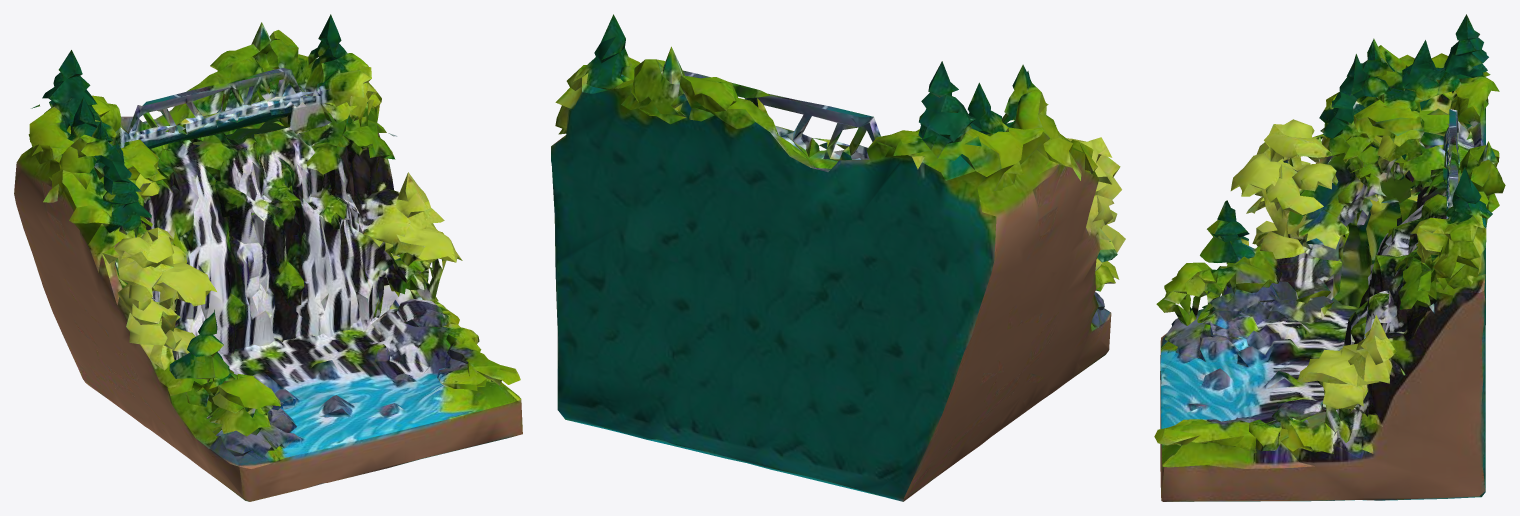
The model's file is shirahige-falls.glb.
3 views of the same model, side by side, from view 1: azimuth 30°, elevation 25°; view 2: azimuth 150°, elevation 25°; view 3: azimuth 270°, elevation 25° (orthographic). The views are drawn at different scales.
Visible parts, largest first — view 1: logan-textured.obj; view 2: logan-textured.obj; view 3: logan-textured.obj.
Boxes of the visible parts, <box> form: logan-textured.obj: <box>14,14,522,501</box>; logan-textured.obj: <box>551,14,1125,501</box>; logan-textured.obj: <box>1154,14,1505,501</box>.
Bounding box in the file's own units: 1 × 0.8434 × 0.779.
1 material, 1 textured.
